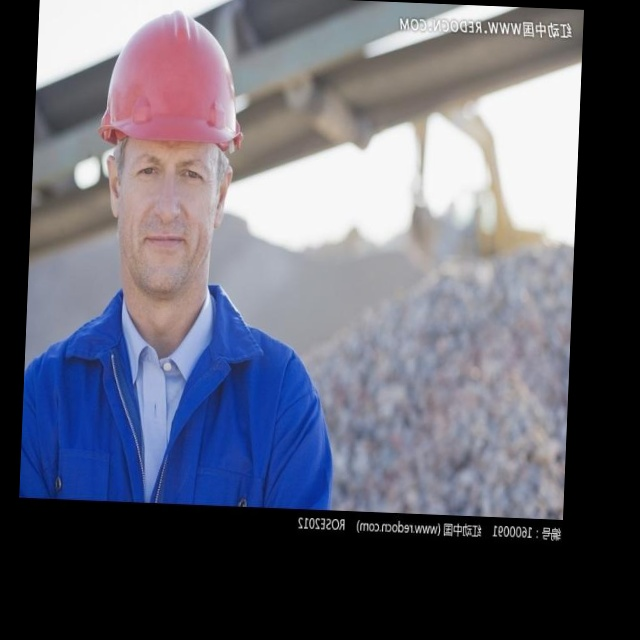Con_Casco: (94, 9, 242, 299)
